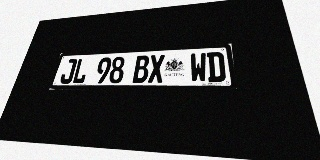8: (108, 56, 126, 83)
9: (94, 57, 112, 83)
B: (132, 55, 150, 83)
D: (207, 52, 226, 82)
J: (59, 59, 78, 84)
L: (71, 58, 90, 84)
W: (190, 53, 207, 82)
X: (148, 55, 165, 83)
